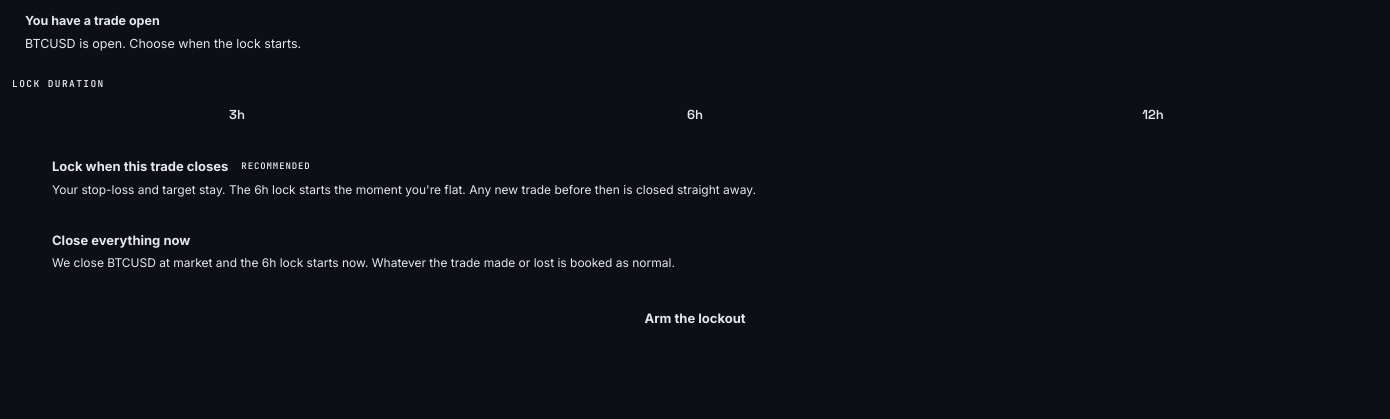
Test case: OpenTradeLockChoice › Back returns to the choice without arming
Click the button "Arm the lockout" at (695, 319), box [12,297,1378,340]
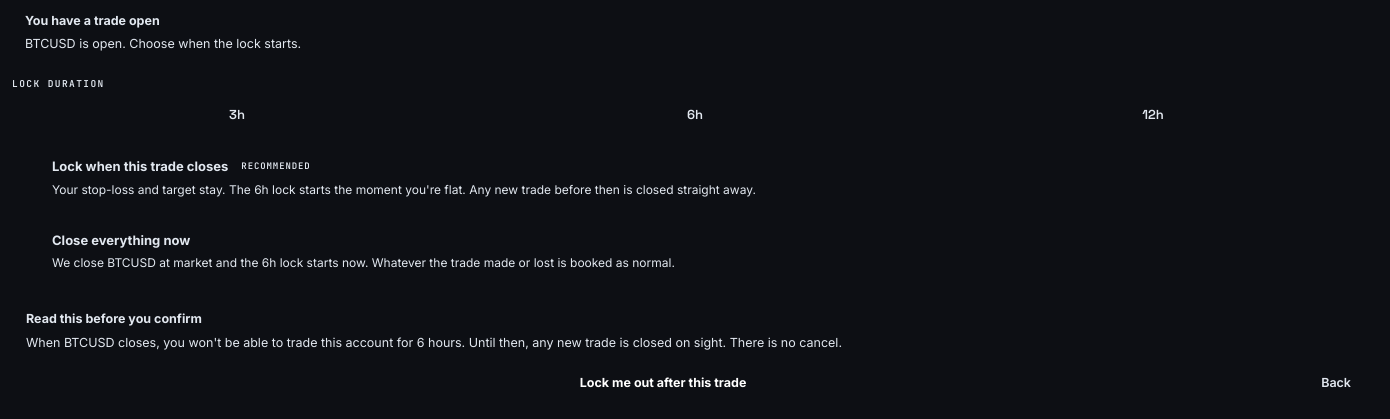
Click the button "Back" at (1336, 383), box [1308,364,1364,402]
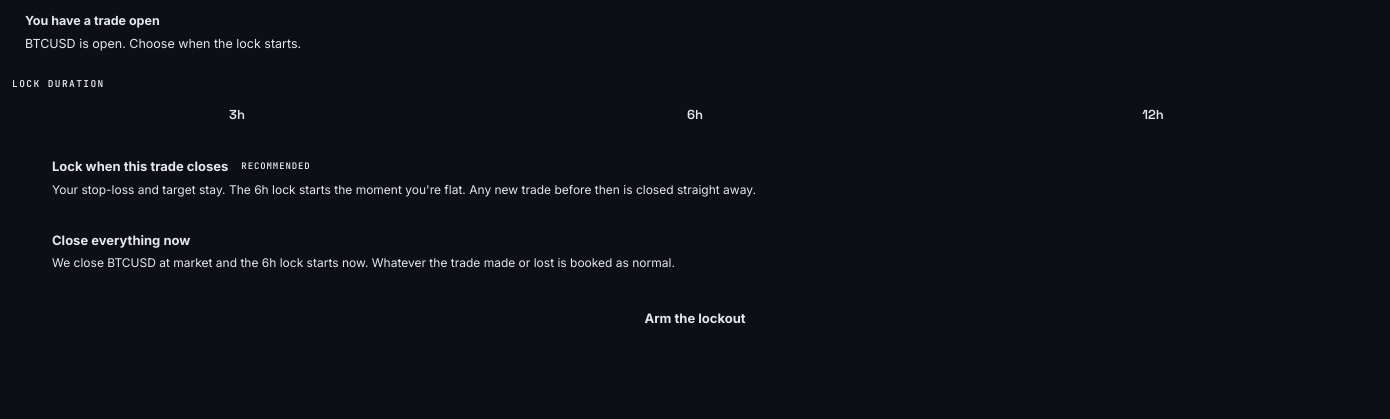
Result: the button "Arm the lockout" is shown at [12,297,1378,340]
